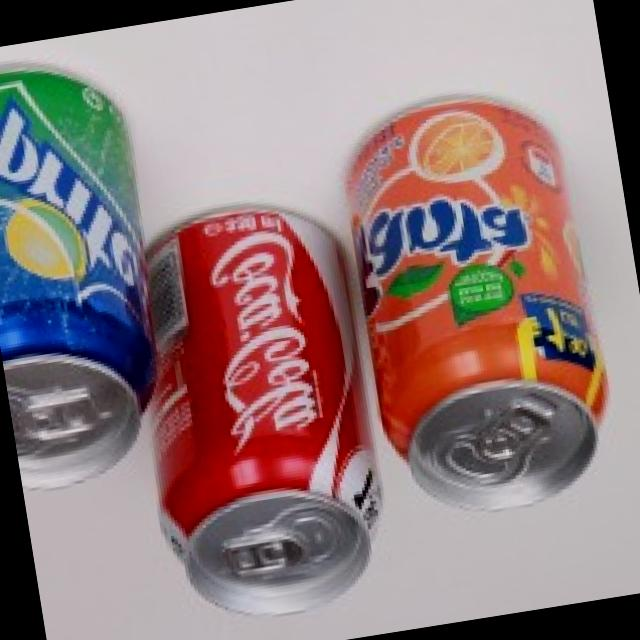kim_loai: (343, 94, 611, 514), (147, 205, 383, 618), (0, 64, 156, 492)
